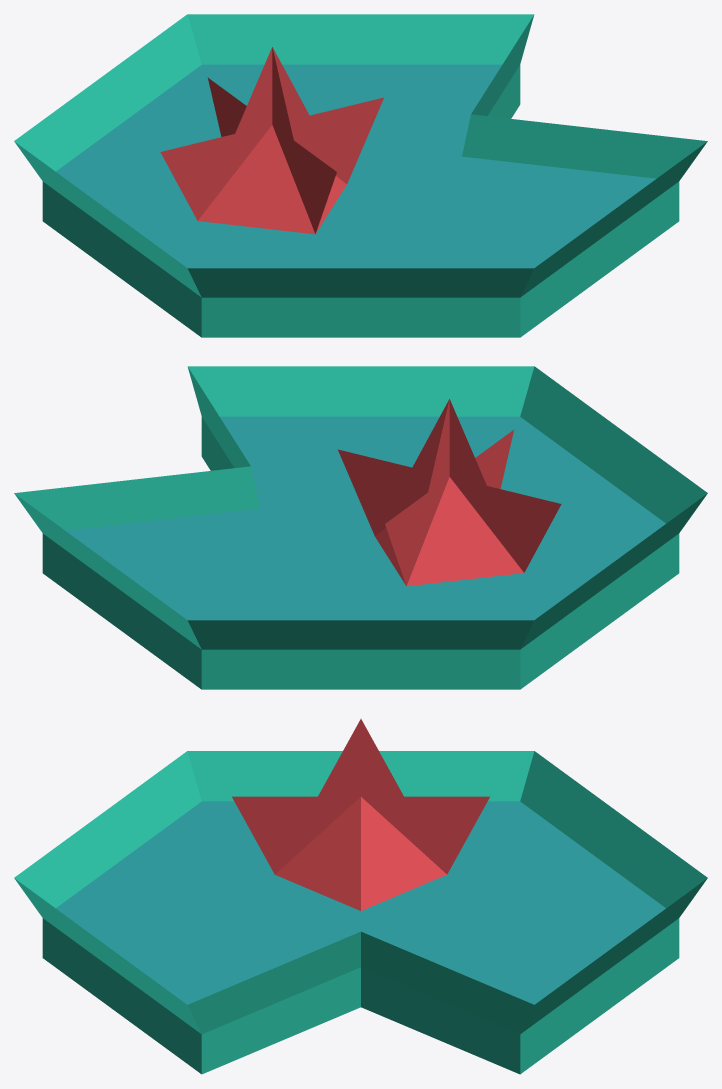
File: lily-large.glb
The picture shows the model from 3 angles, top to bottom: view 1: azimuth 30°, elevation 25°; view 2: azimuth 150°, elevation 25°; view 3: azimuth 270°, elevation 25°; orthographic projection.
Parts seen in each view (by area): view 1: lily_large; view 2: lily_large; view 3: lily_large.
Part boxes in pixels (box(x1,y1,x2,y2)): lily_large: box(14, 14, 707, 337); lily_large: box(14, 366, 707, 689); lily_large: box(14, 719, 707, 1074).
Bounding box in the file's own units: 0.2719 × 0.098 × 0.3139.
